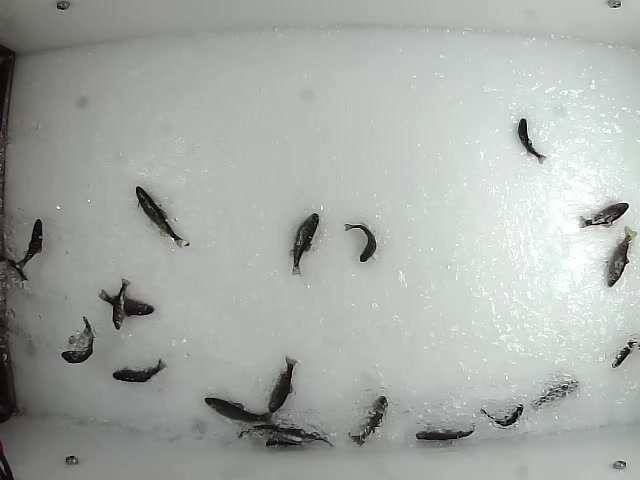fish: (131, 184, 190, 249), (604, 223, 640, 289), (202, 394, 276, 426), (263, 352, 299, 416), (289, 209, 322, 278), (348, 393, 389, 448), (59, 316, 97, 365), (95, 288, 157, 318), (12, 216, 44, 272), (529, 377, 580, 410), (110, 356, 168, 384), (577, 199, 629, 230), (515, 116, 547, 165), (343, 222, 377, 263), (412, 421, 476, 442), (109, 275, 132, 331), (480, 401, 524, 428), (607, 337, 640, 370)
